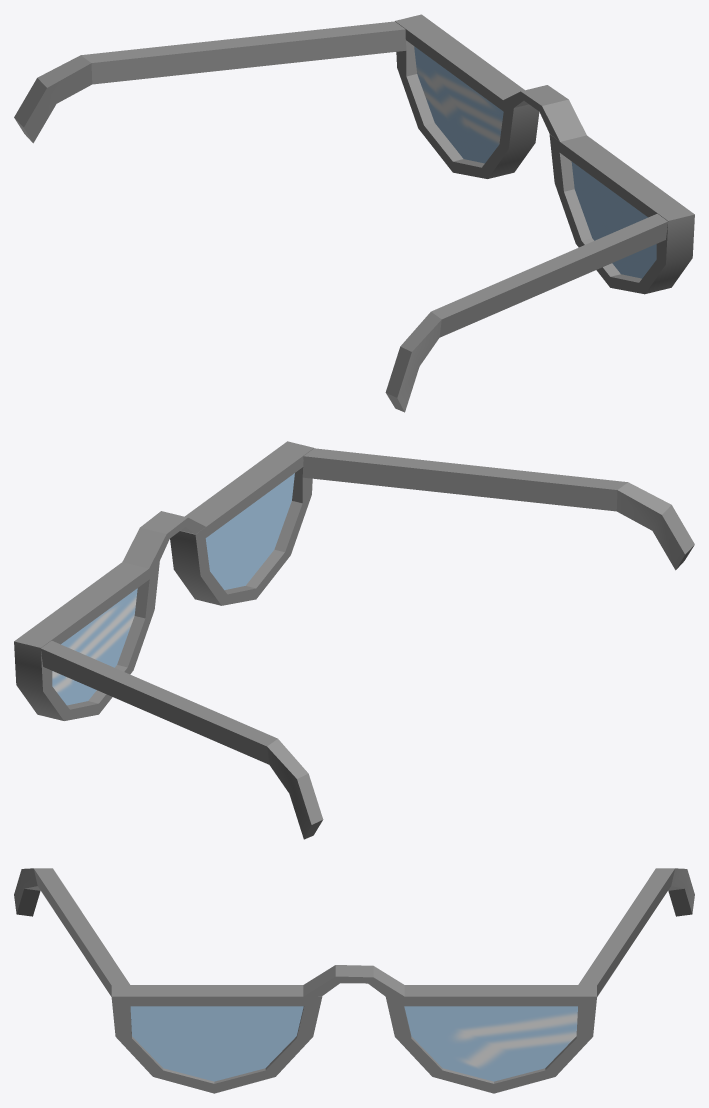
Rendered from glasses.fbx.
3 views of the same model, one above another, from view 1: azimuth 30°, elevation 25°; view 2: azimuth 150°, elevation 25°; view 3: azimuth 270°, elevation 25° (orthographic). The views are drawn at different scales.
Parts seen in each view (by area): view 1: left_eye, right_eye; view 2: right_eye, left_eye; view 3: left_eye, right_eye.
Part boxes in pixels (x1,y1,x2,y2): left_eye: (14, 14, 586, 178); right_eye: (385, 134, 694, 412); right_eye: (170, 441, 694, 605); left_eye: (14, 511, 323, 839); left_eye: (303, 868, 694, 1093); right_eye: (14, 868, 322, 1093).
Bounding box in the file's own units: 11.13 × 3.97 × 20.9.
Materials: 1 (1 with a texture image).
